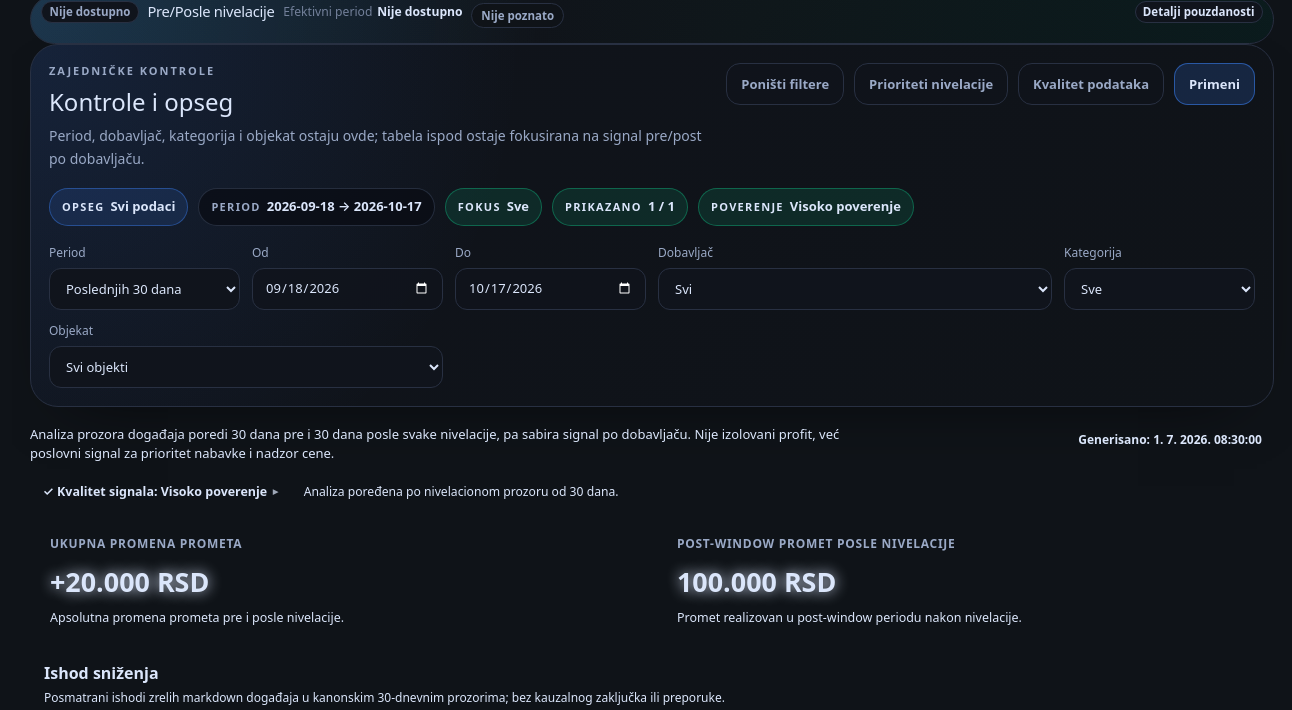
ProdajaPrePostNivelacijePage scope lineage › presents an unavailable control group in business copy and hides support detail by default
Click the button "✓ Kvalitet signala: Visoko poverenje ▸". click: (160, 492)
box: [30,478,291,506]
(page scrolled)
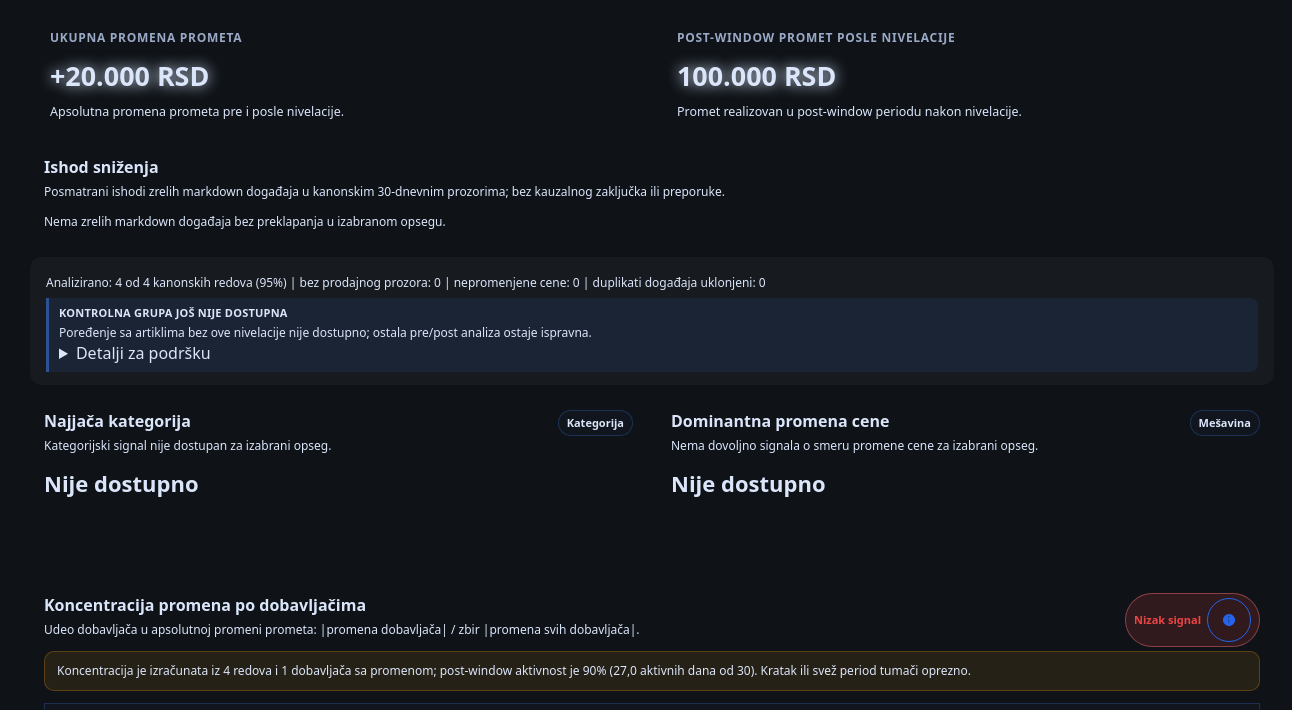
expect the text "Kontrolna grupa još nije dostupna" is shown: met, box [59,304,288,320]
